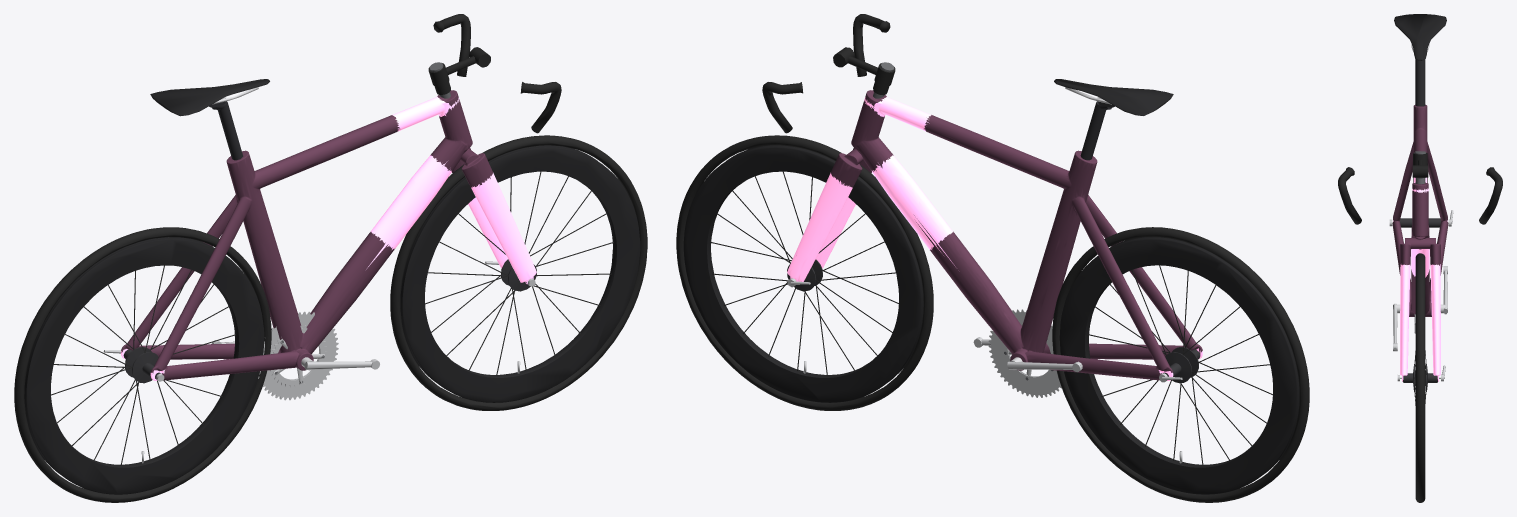
Rendered from bike_lite.glb.
3 renders of one model, left to right at view 1: azimuth 30°, elevation 25°; view 2: azimuth 150°, elevation 25°; view 3: azimuth 270°, elevation 25°, orthographic. The views are drawn at different scales.
Visible parts, largest first — view 1: rim_front, fork, tyre_front, dropbar, saddle; view 2: rim_front, fork, tyre_front, dropbar, saddle; view 3: fork, dropbar, tyre_front, saddle.
Part boxes in pixels (left/top/right/bottom): rim_front: left=24, top=145, right=640, bottom=494; fork: left=121, top=90, right=536, bottom=380; tyre_front: left=14, top=135, right=647, bottom=502; dropbar: left=51, top=14, right=613, bottom=465; saddle: left=150, top=79, right=269, bottom=116; rim_front: left=683, top=145, right=1299, bottom=494; fork: left=787, top=90, right=1202, bottom=380; tyre_front: left=676, top=135, right=1309, bottom=502; dropbar: left=710, top=14, right=1272, bottom=465; saddle: left=1054, top=79, right=1173, bottom=115; fork: left=1392, top=104, right=1448, bottom=381; dropbar: left=1338, top=44, right=1502, bottom=405; tyre_front: left=1415, top=253, right=1425, bottom=502; saddle: left=1394, top=14, right=1446, bottom=60.
Size of the model in its own units: 1.66 by 0.9824 by 0.445.
6 materials, 6 textured.
